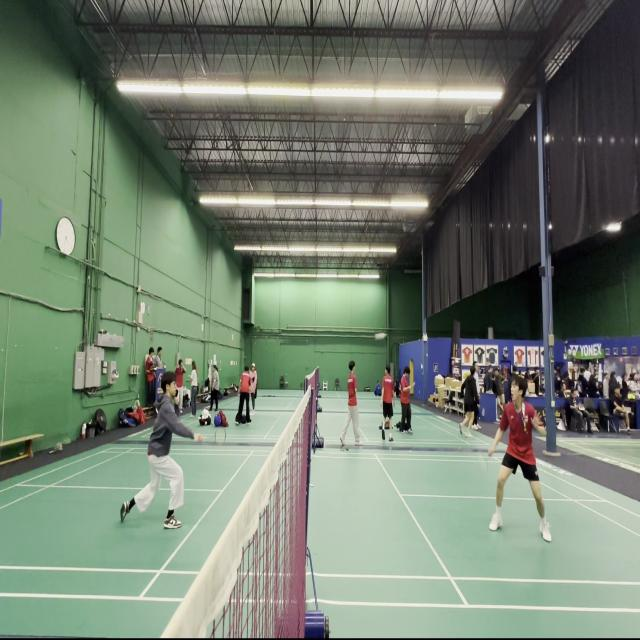shuttlecock: (375, 332, 387, 340)
